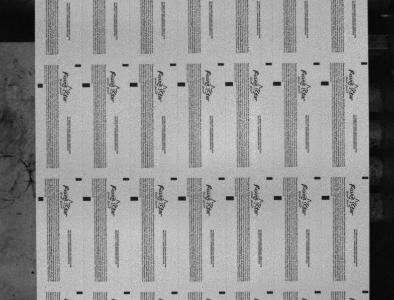backgroundclutter: (31, 271, 35, 274)
qblock: (130, 196, 139, 201), (273, 81, 282, 86), (177, 82, 186, 87), (178, 196, 186, 201), (274, 195, 282, 200), (83, 196, 91, 201), (322, 195, 330, 200), (130, 82, 138, 87), (226, 196, 235, 200), (225, 82, 234, 86), (82, 83, 90, 87), (321, 81, 329, 85), (37, 83, 43, 88), (38, 197, 44, 201)
smallqblock: (75, 177, 82, 181), (218, 62, 225, 66), (170, 177, 178, 180), (74, 64, 81, 67), (170, 63, 177, 66), (218, 177, 225, 180), (123, 177, 130, 180), (314, 176, 321, 179), (267, 291, 274, 294), (266, 62, 273, 65), (219, 291, 226, 294), (171, 291, 178, 294), (361, 62, 368, 65), (315, 290, 322, 293), (76, 291, 83, 294), (362, 176, 369, 179), (362, 290, 369, 293), (267, 177, 273, 180), (314, 62, 320, 65), (124, 291, 130, 294), (122, 64, 129, 66)
